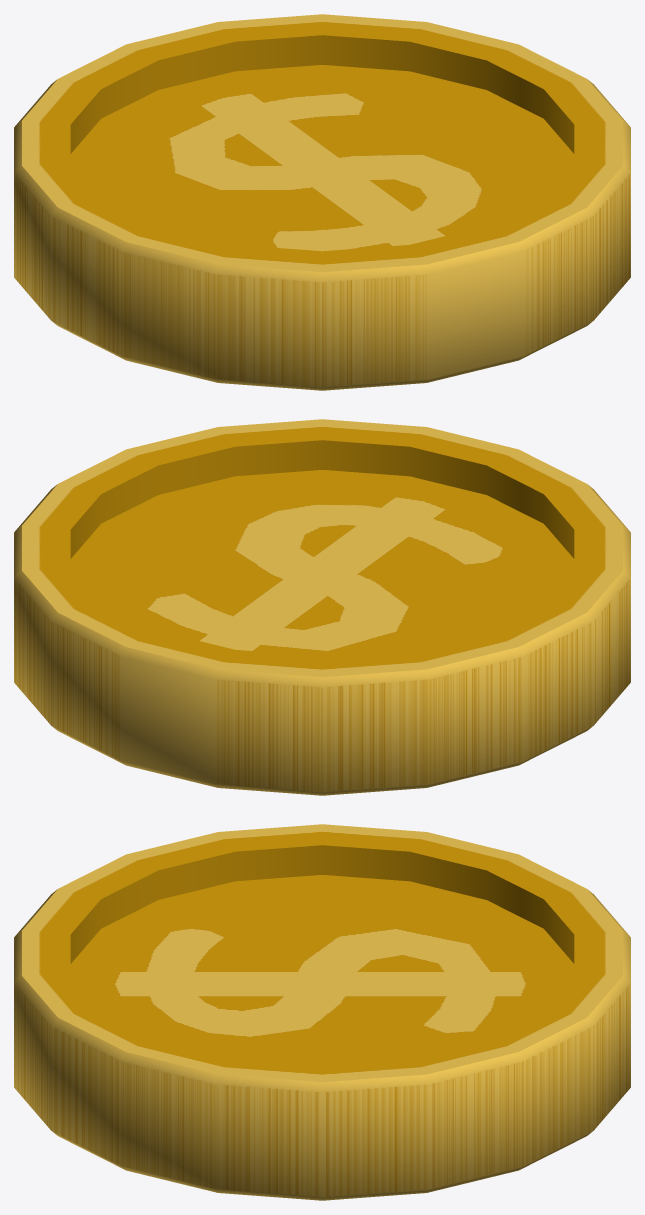
File: Coin2.FBX
The picture shows the model from 3 angles, top to bottom: view 1: azimuth 30°, elevation 25°; view 2: azimuth 150°, elevation 25°; view 3: azimuth 270°, elevation 25°; orthographic projection.
Parts seen in each view (by area): view 1: Coin; view 2: Coin; view 3: Coin.
Part boxes in pixels (x1,y1,x2,y2): Coin: (14, 14, 630, 390); Coin: (14, 419, 630, 795); Coin: (14, 824, 630, 1200).
Size of the model in its own units: 78.62 by 16.41 by 77.43.
